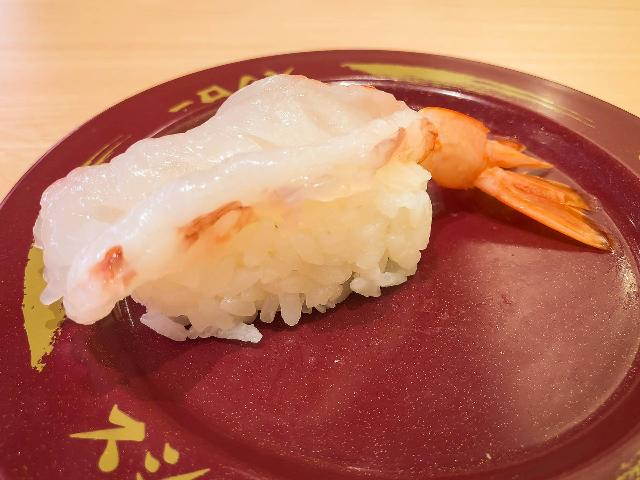janred: (0, 26, 640, 476)
